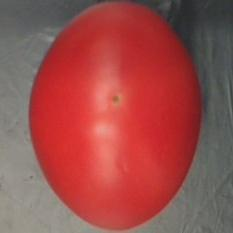unripe: (25, 2, 206, 231)
